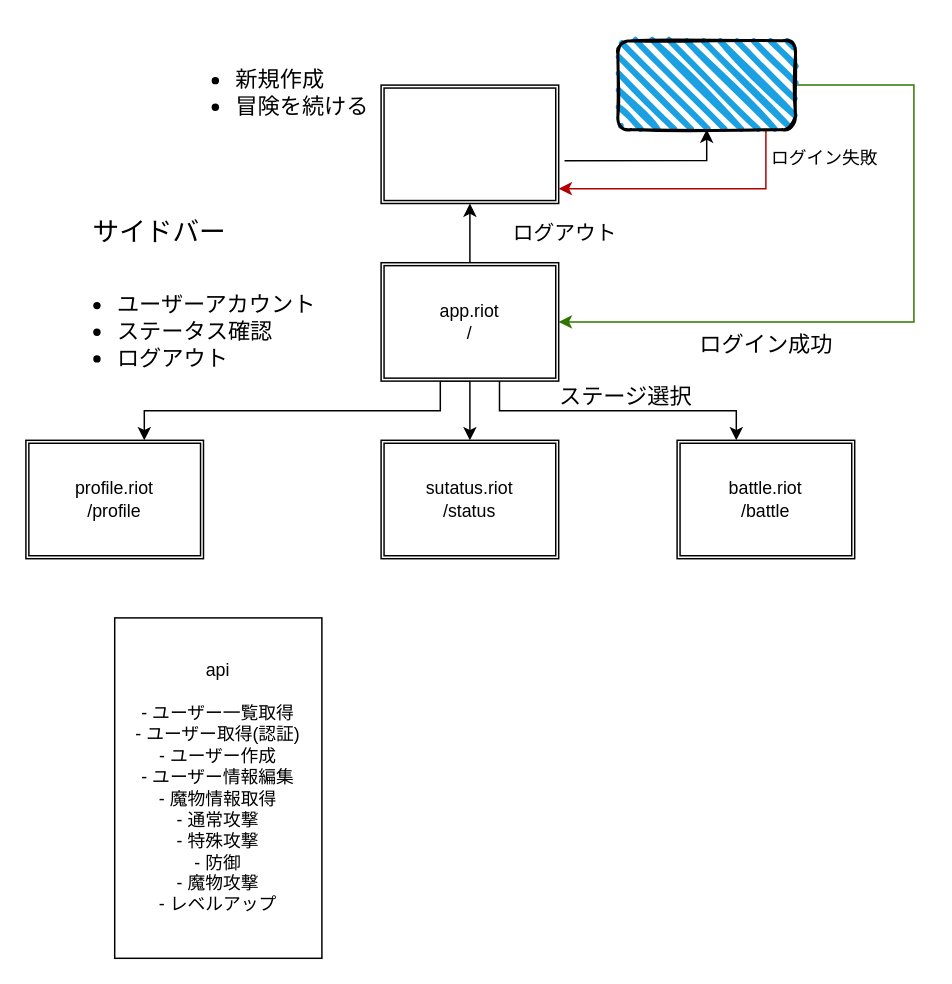
This 952x984 diagram has some shape labels left out. The centre of each missing label's shape, as x and y in pixels:
dialog password入力: point (706, 84)
login.riot /login: point (469, 144)
